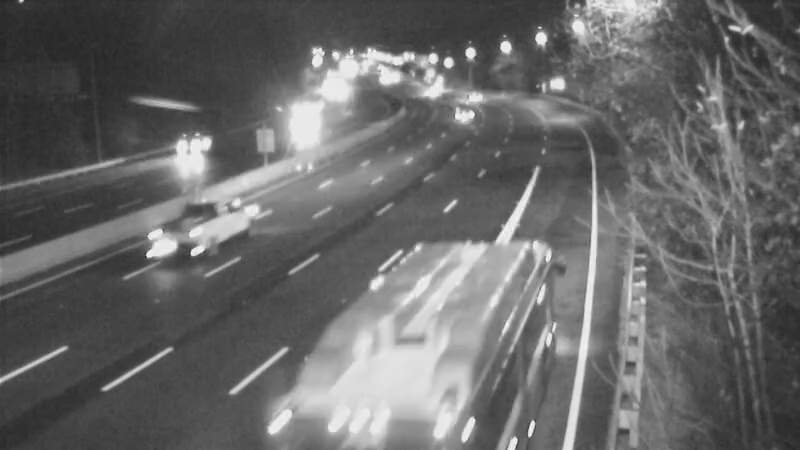vehicle: (345, 322, 455, 432), (152, 183, 232, 263), (401, 68, 451, 118), (440, 69, 490, 119), (439, 87, 489, 137), (166, 117, 216, 167), (286, 95, 336, 145)
